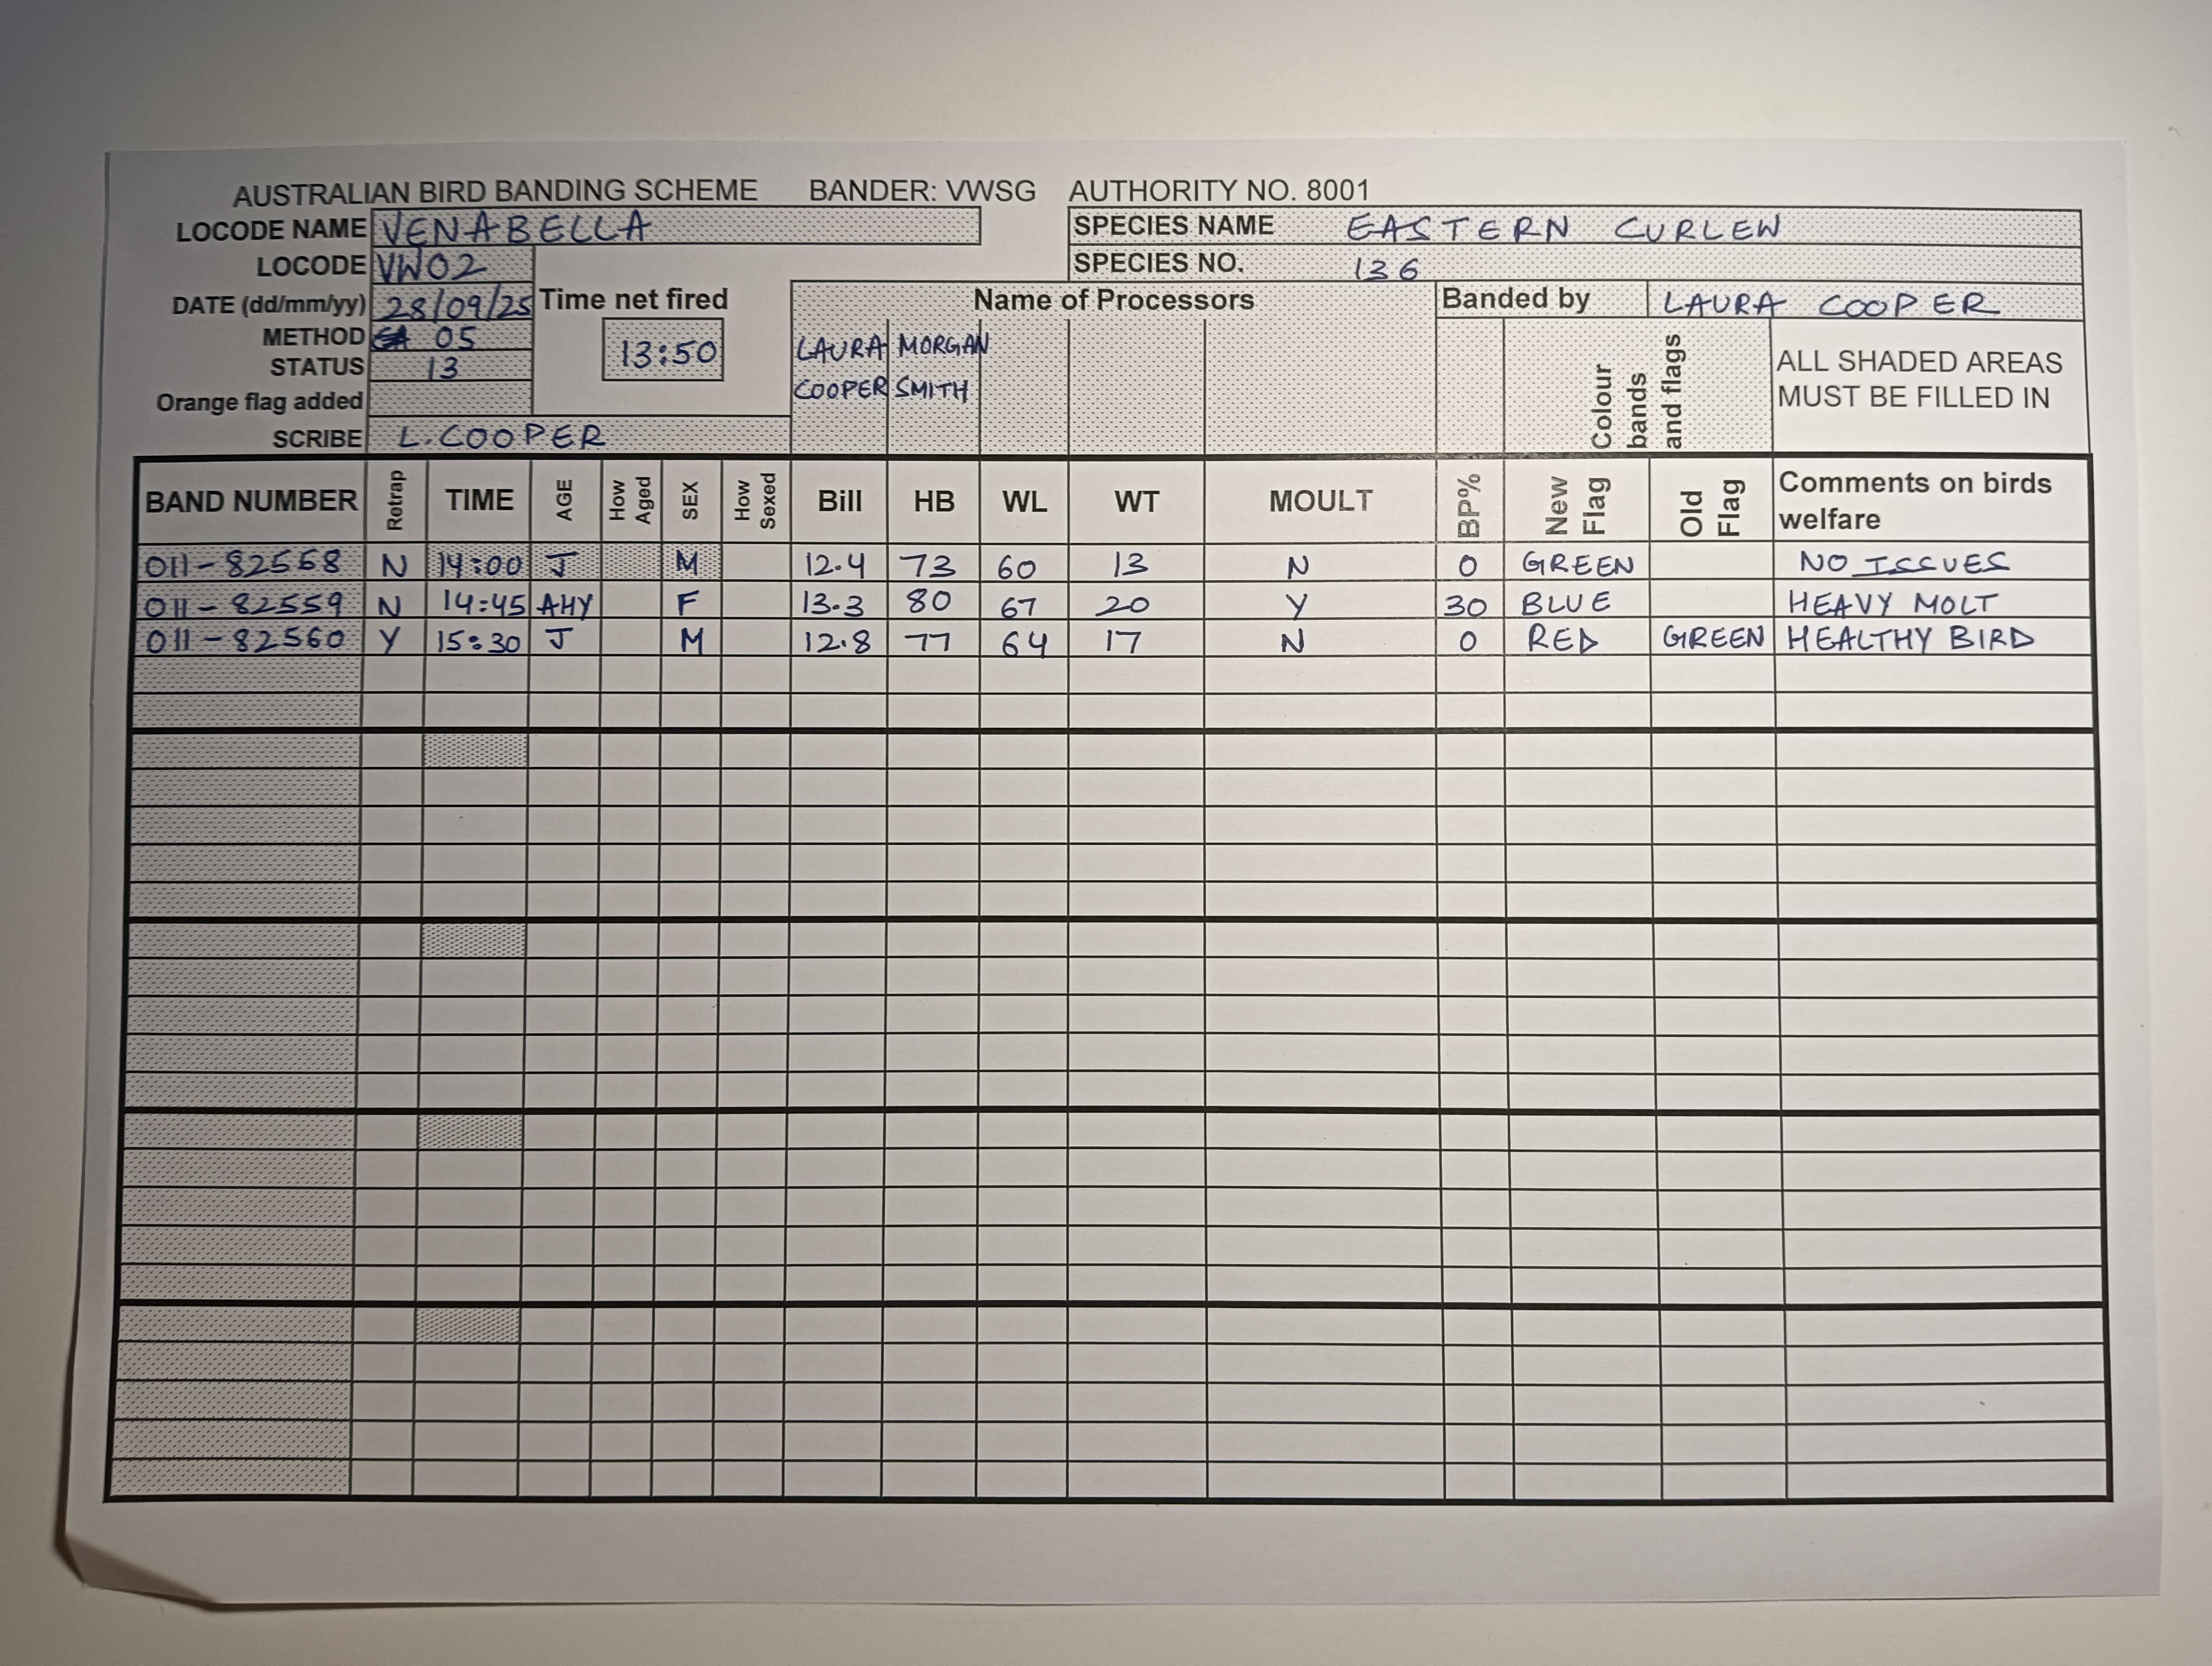BANDED_BY: (1436, 283, 2083, 318)
DATA: (135, 620, 2095, 658), (138, 542, 2095, 581), (138, 583, 2095, 620)
DATE: (161, 283, 537, 322)
LOCOCODE: (212, 247, 535, 285)
LOCOCODE_NAME: (157, 210, 981, 243)
METHOD: (252, 317, 533, 352)
NAME_OF_PROCESSORS: (892, 303, 998, 457), (794, 301, 888, 459)
ORANGE_FLAG_ADDED: (140, 380, 535, 415)
SCRIBE: (269, 415, 789, 453)
SPECIES_NAME: (1070, 210, 2081, 249)
SPECIES_NO: (1070, 245, 2083, 283)
STATUS: (257, 354, 535, 381)
TIME_NET_FIRED: (537, 266, 771, 404)
